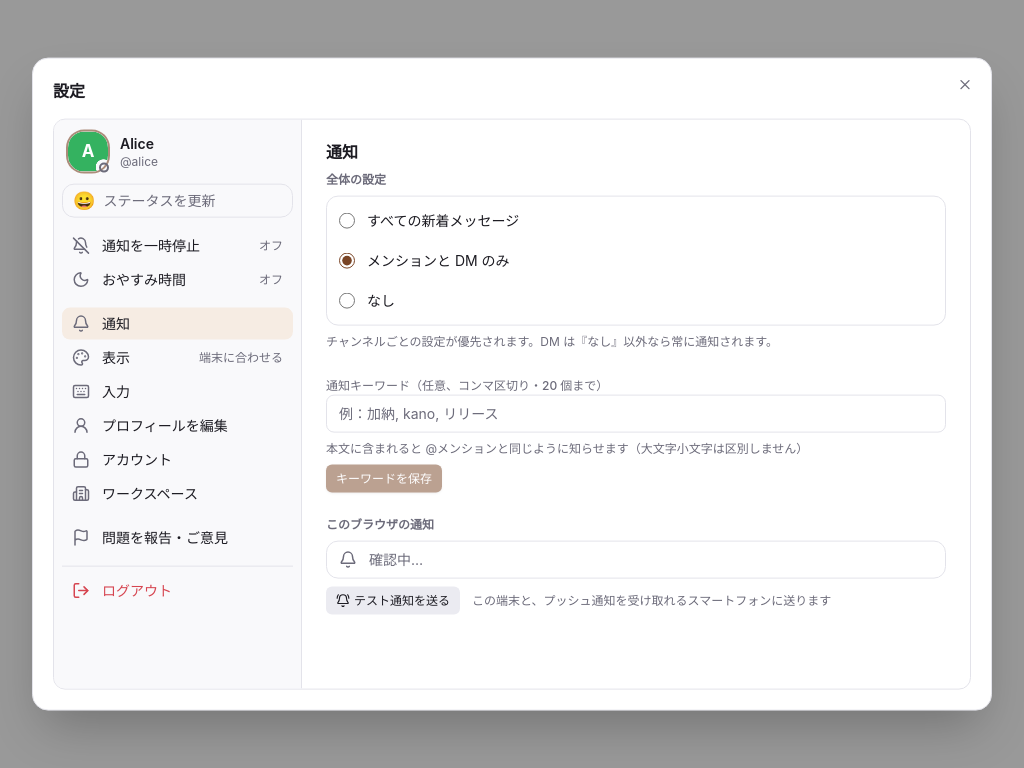
the settings' 「テスト通知を送る」 › says why it was refused (the rate limit)
Step 1. Click the button "テスト通知を送る" → [393, 601], box [326,587,460,615]
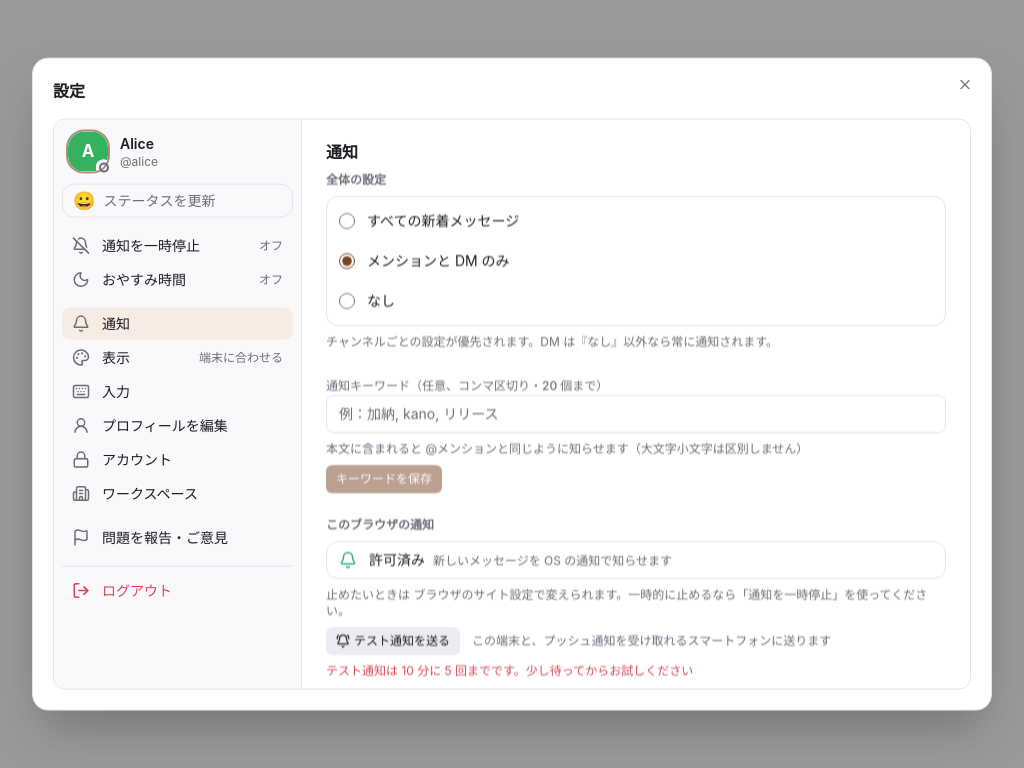
Result: the message reads "テスト通知は 10 分に 5 回までです。少し待ってからお試しください" at [326,663,693,678]
